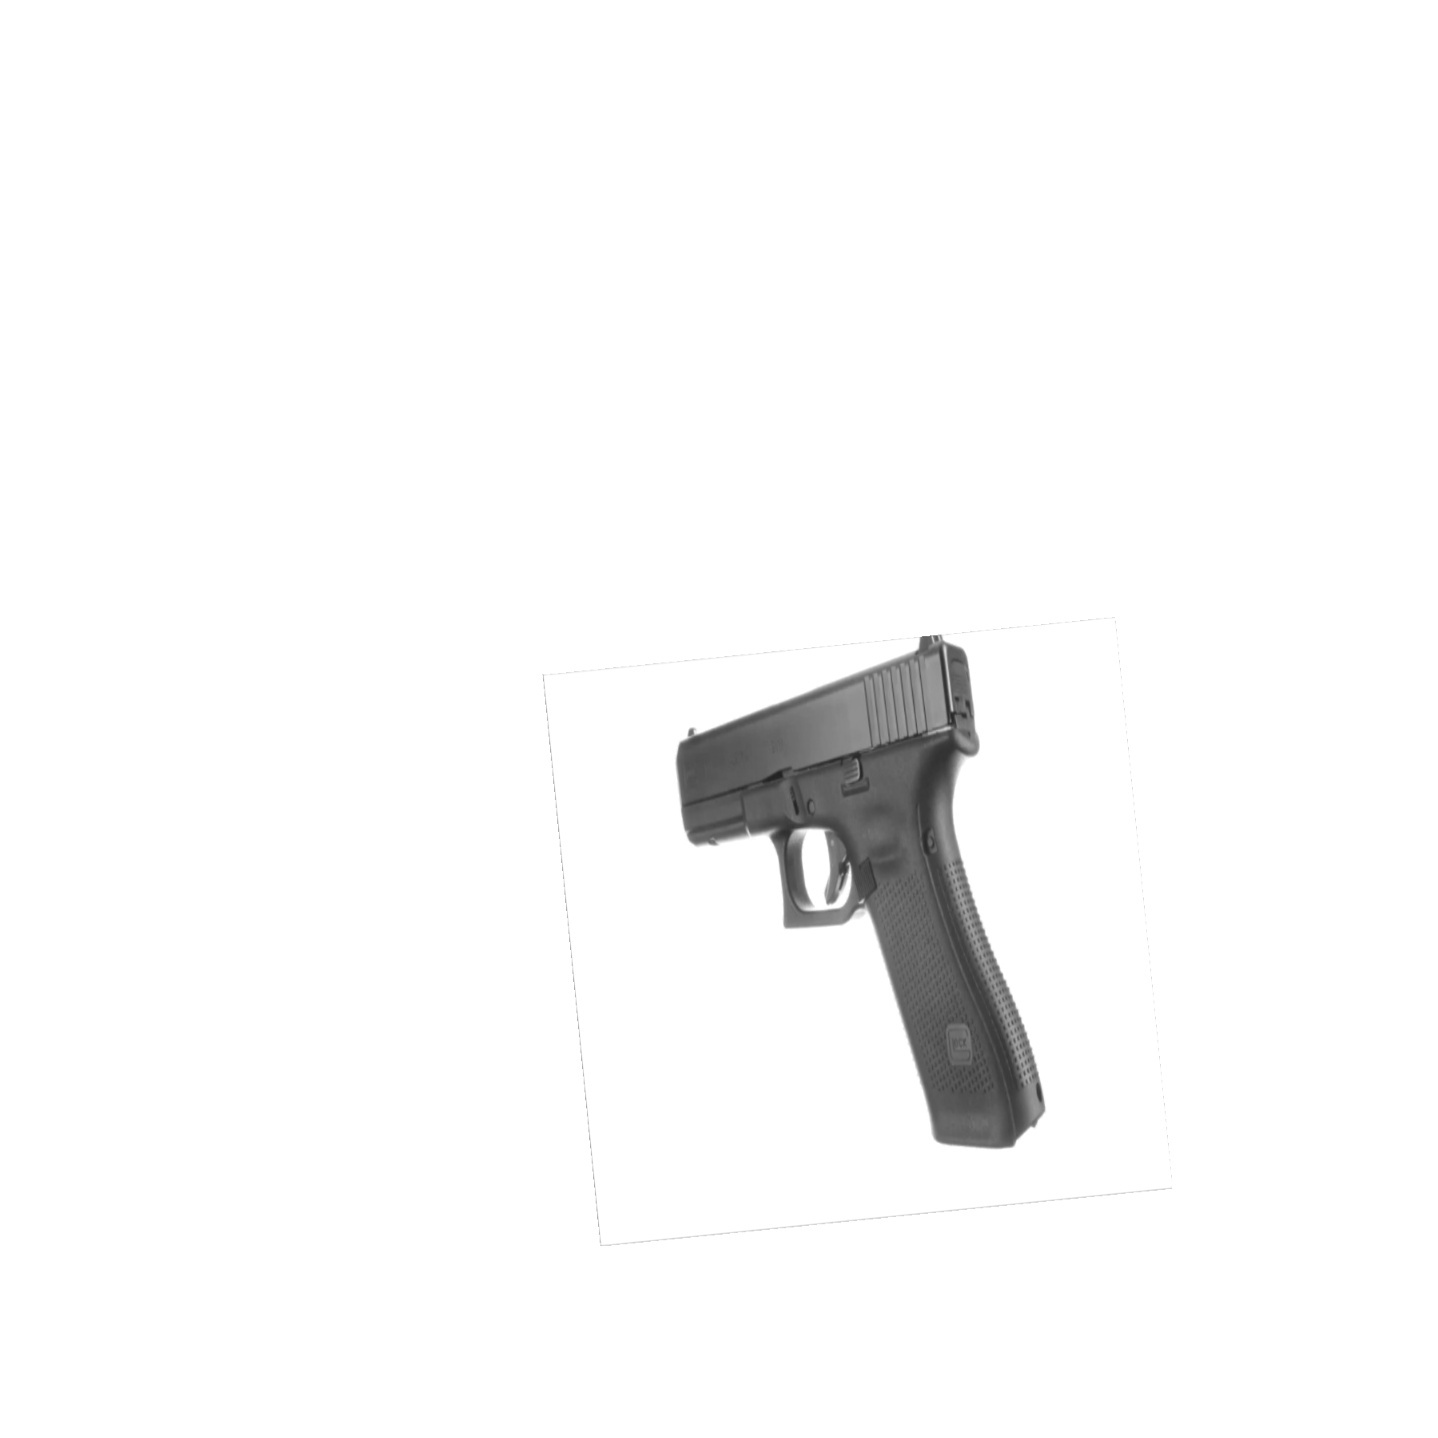gun: (673, 632, 1050, 1146)
